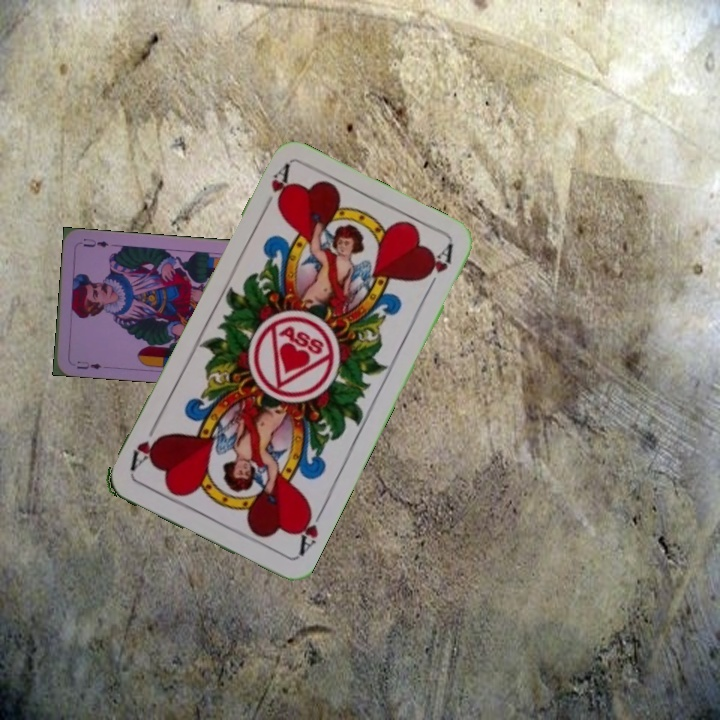EU: (72, 357, 104, 372)
HA: (292, 501, 327, 559), (257, 161, 292, 216)
